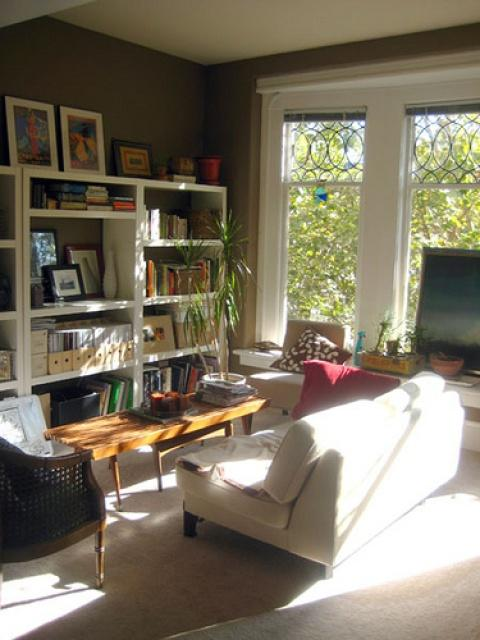Rak: (21, 169, 139, 430), (138, 176, 227, 409)
